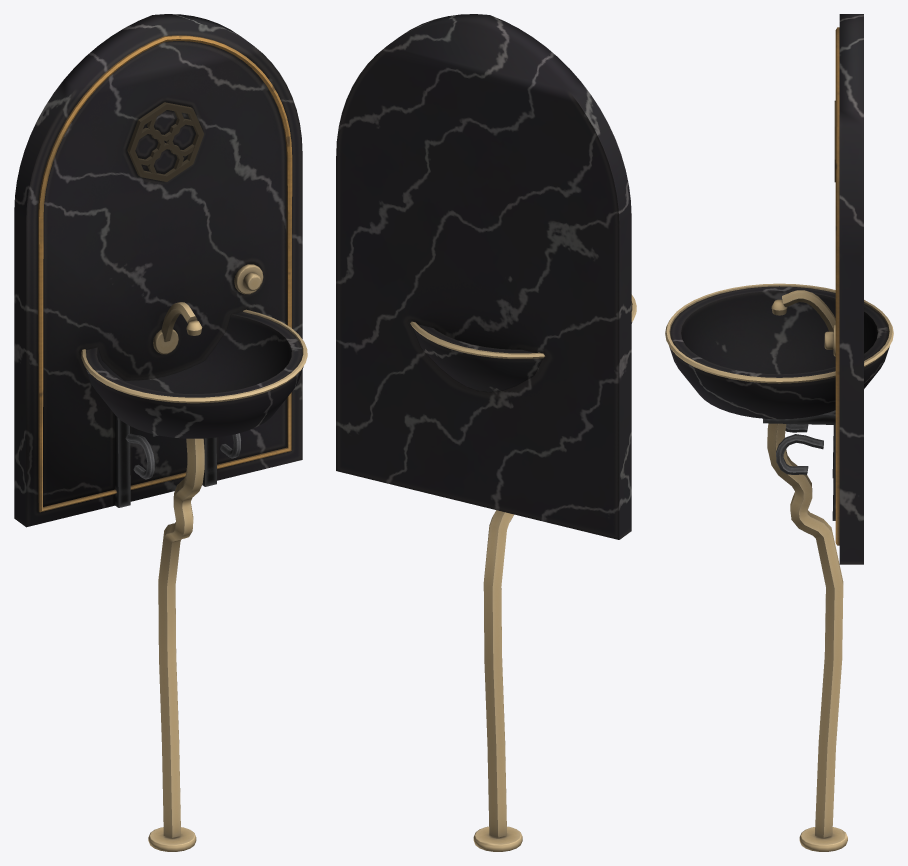
Rendered from DrinkingFountain.fbx.
3 renders of one model, left to right at view 1: azimuth 30°, elevation 25°; view 2: azimuth 150°, elevation 25°; view 3: azimuth 270°, elevation 25°, orthographic. The views are drawn at different scales.
Parts seen in each view (by area): view 1: DrinkingFountain; view 2: DrinkingFountain; view 3: DrinkingFountain.
Part boxes in pixels (<box>): DrinkingFountain: <box>14,14,307,851</box>; DrinkingFountain: <box>336,14,636,851</box>; DrinkingFountain: <box>665,14,893,851</box>.
Size of the model in its own units: 160 by 450 by 114.
